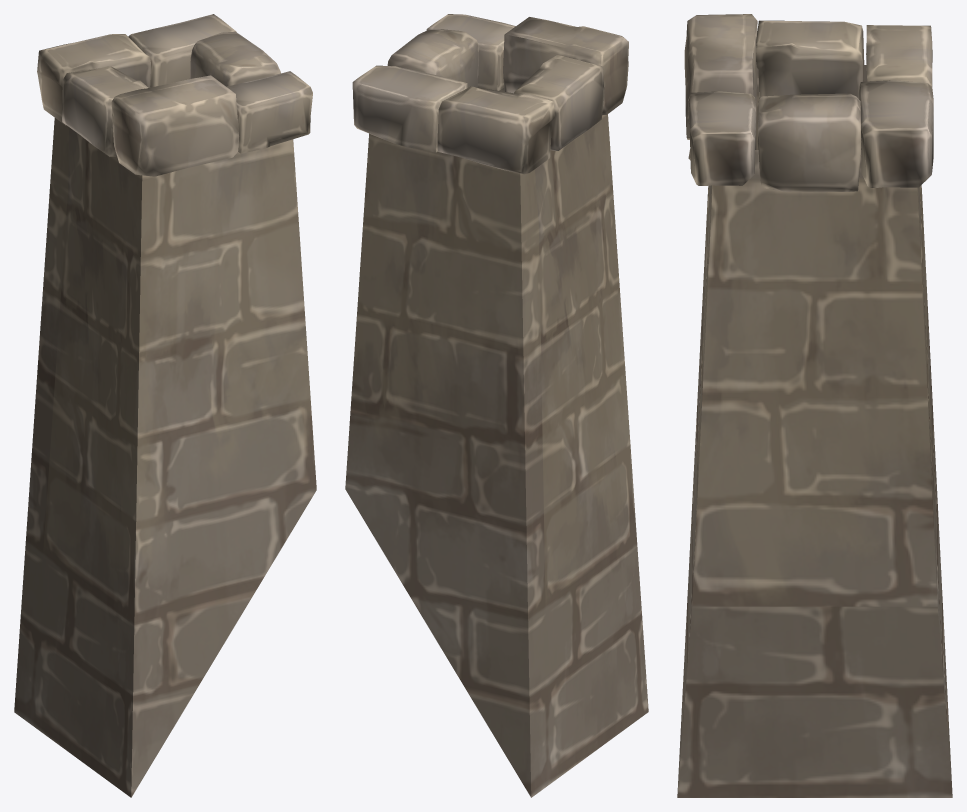
File: Prop_Chimney.gltf
3 renders of one model, left to right at view 1: azimuth 30°, elevation 25°; view 2: azimuth 150°, elevation 25°; view 3: azimuth 270°, elevation 25°, orthographic. The views are drawn at different scales.
Visible parts, largest first — view 1: Prop_Chimney; view 2: Prop_Chimney; view 3: Prop_Chimney.
Boxes of the visible parts, x1,y1,x2,y2 form: Prop_Chimney: (14, 14, 316, 797); Prop_Chimney: (345, 14, 648, 797); Prop_Chimney: (677, 14, 952, 797).
Bounding box in the file's own units: 0.9458 × 3.18 × 1.
Materials: 2 (2 with a texture image).
